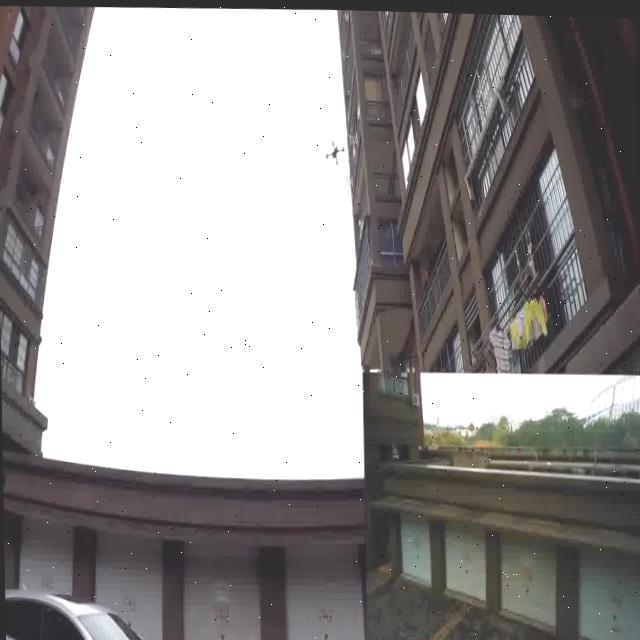drone: (324, 131, 346, 164)
